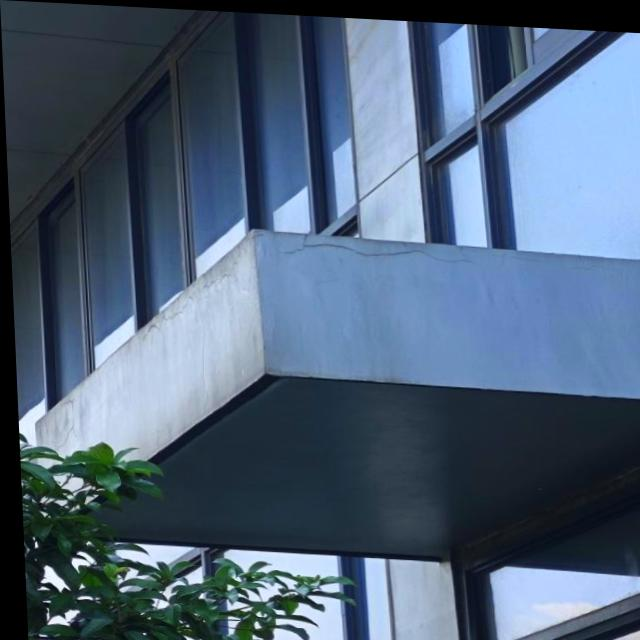crack: (264, 233, 496, 273)
